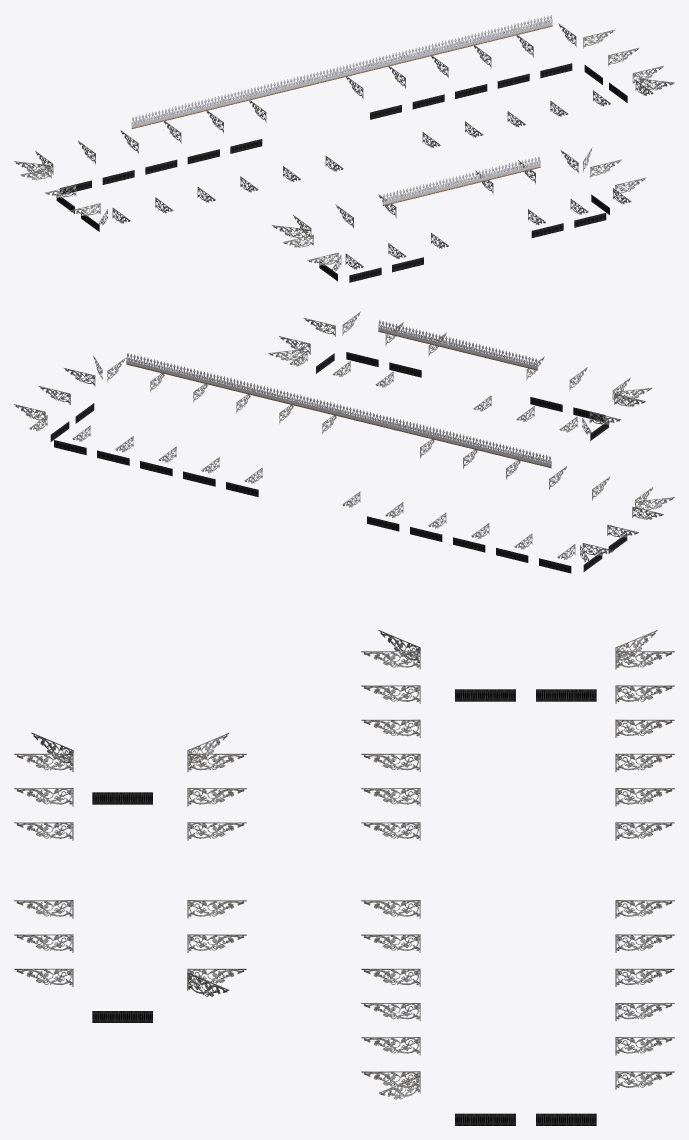
File: vegaswtrainstat2.obj
3 views of the same model, one above another, from view 1: azimuth 30°, elevation 25°; view 2: azimuth 150°, elevation 25°; view 3: azimuth 270°, elevation 25° (orthographic). The views are drawn at different scales.
Parts seen in each view (by area): view 1: vegaswtrainstat2; view 2: vegaswtrainstat2; view 3: vegaswtrainstat2.
Part boxes in pixels (bbox=[...]): vegaswtrainstat2: bbox=[14, 15, 674, 282]; vegaswtrainstat2: bbox=[14, 311, 674, 573]; vegaswtrainstat2: bbox=[14, 630, 674, 1125].
Size of the model in its own units: 106 by 14.78 by 62.18.
3 materials, 3 textured.
